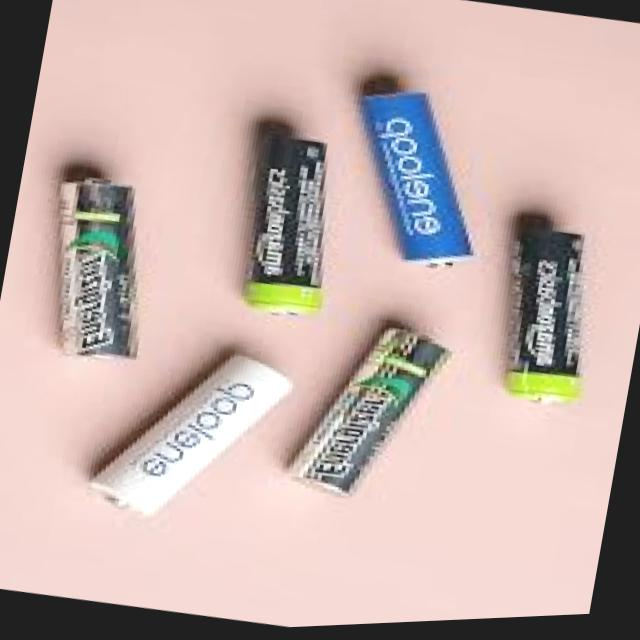B3: (0, 120, 212, 389), (95, 304, 292, 565), (324, 66, 516, 295), (282, 286, 454, 530), (473, 208, 615, 433)
